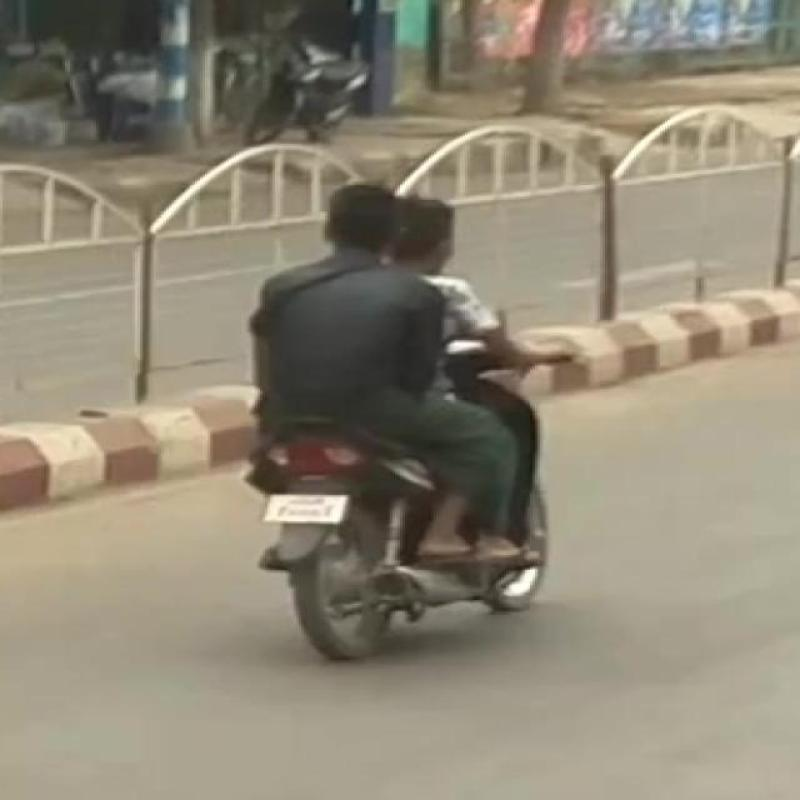nohelmet: (298, 162, 484, 288)
